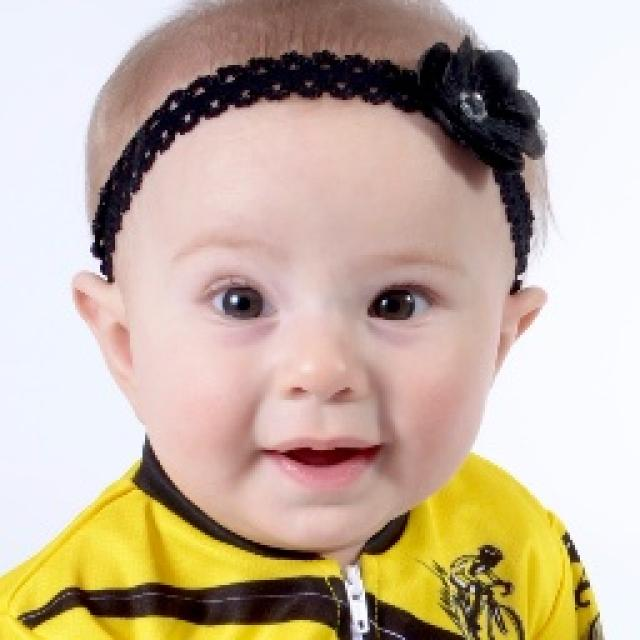earlobe: (117, 371, 147, 424)
eye: (198, 281, 276, 324), (363, 282, 441, 323)
nose: (274, 381, 366, 432)
wholeear: (71, 270, 147, 424), (488, 286, 548, 390)
